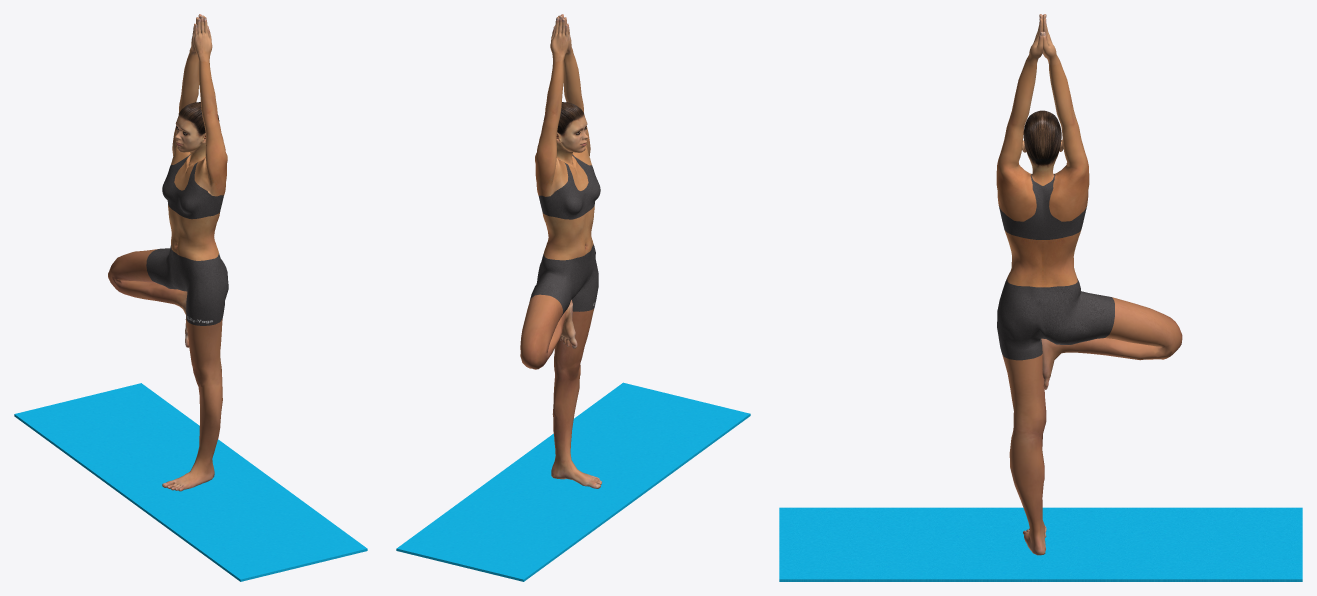
The model's file is vriksasana.glb.
3 renders of one model, left to right at view 1: azimuth 30°, elevation 25°; view 2: azimuth 150°, elevation 25°; view 3: azimuth 270°, elevation 25°, orthographic. The views are drawn at different scales.
Visible parts, largest first — view 1: Mat-one-piece_jpg-material, Lily_Texture01_06_2016_jpg-material; view 2: Mat-one-piece_jpg-material, Lily_Texture01_06_2016_jpg-material; view 3: Mat-one-piece_jpg-material, Lily_Texture01_06_2016_jpg-material.
Boxes of the visible parts, left/top/right/bottom form: Mat-one-piece_jpg-material: left=14, top=383, right=367, bottom=581; Lily_Texture01_06_2016_jpg-material: left=108, top=14, right=228, bottom=491; Mat-one-piece_jpg-material: left=396, top=382, right=750, bottom=581; Lily_Texture01_06_2016_jpg-material: left=520, top=14, right=601, bottom=488; Mat-one-piece_jpg-material: left=779, top=507, right=1302, bottom=581; Lily_Texture01_06_2016_jpg-material: left=996, top=14, right=1182, bottom=555.
Size of the model in its own units: 2 by 7 by 6.17.
Materials: 3 (2 with a texture image).
